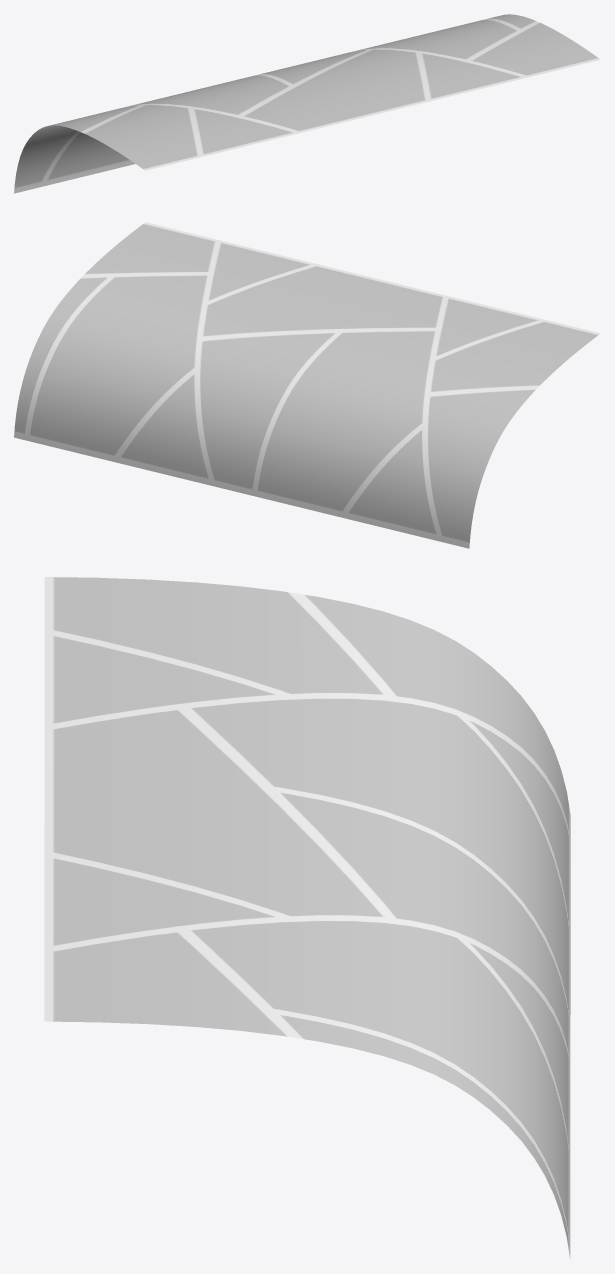
The model's file is Ceiling04_700x350x175cm.FBX.
3 renders of one model, top to bottom at view 1: azimuth 30°, elevation 25°; view 2: azimuth 150°, elevation 25°; view 3: azimuth 270°, elevation 25°, orthographic. The views are drawn at different scales.
Visible parts, largest first — view 1: Ceiling04_700x350x175cm; view 2: Ceiling04_700x350x175cm; view 3: Ceiling04_700x350x175cm.
Part boxes in pixels (<box>): Ceiling04_700x350x175cm: <box>14,14,600,193</box>; Ceiling04_700x350x175cm: <box>14,222,600,548</box>; Ceiling04_700x350x175cm: <box>44,577,570,1258</box>.
Size of the model in its own units: 700 by 175 by 350.
